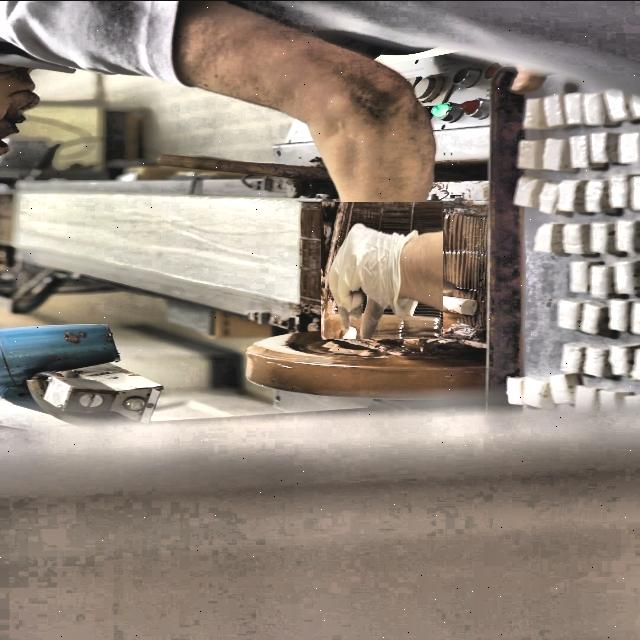gloved: (317, 205, 447, 335)
